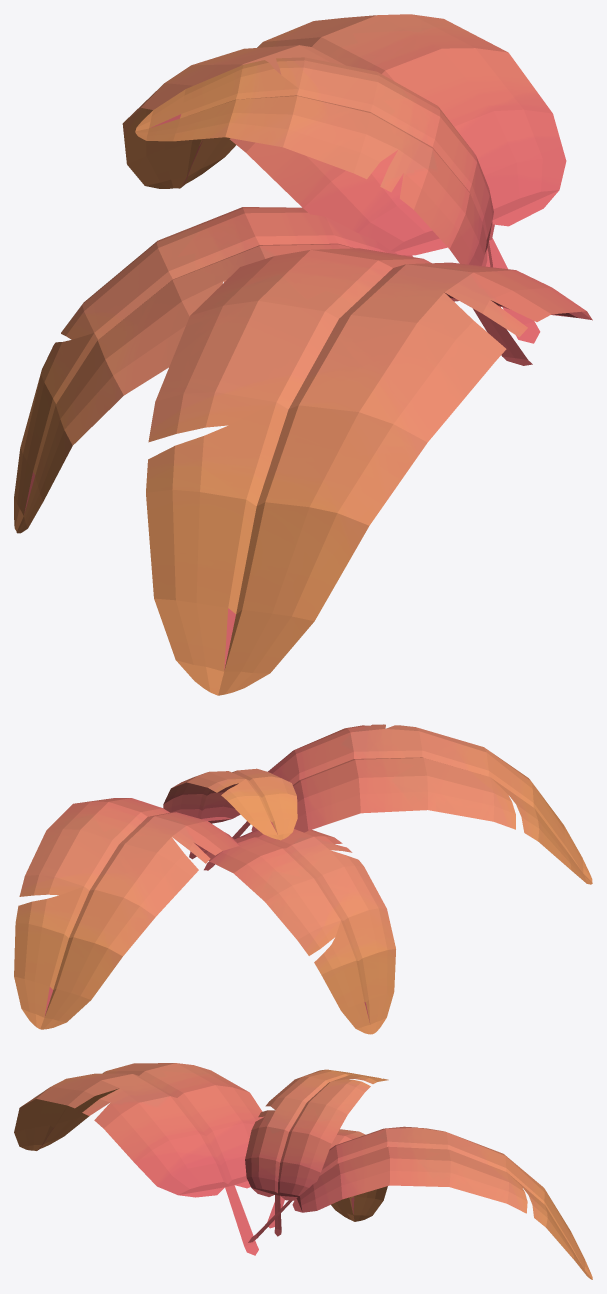
The model's file is plantD.glb.
3 views of the same model, one above another, from view 1: azimuth 30°, elevation 25°; view 2: azimuth 150°, elevation 25°; view 3: azimuth 270°, elevation 25° (orthographic). The views are drawn at different scales.
Parts seen in each view (by area): view 1: plantA; view 2: plantA; view 3: plantA.
Boxes of the visible parts, x1=… form: plantA: x1=14, y1=14, x2=592, y2=695; plantA: x1=14, y1=724, x2=592, y2=1034; plantA: x1=14, y1=1063, x2=592, y2=1279.
Bounding box in the file's own units: 0.7759 × 0.4615 × 1.16.
Materials: 1 (1 with a texture image).
